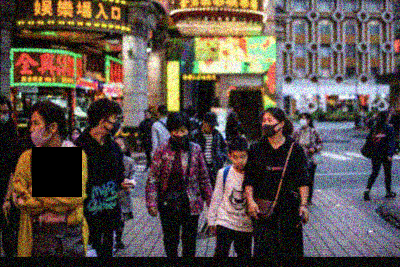mask_weared_incorrect: (29, 116, 50, 146)
with_mask: (170, 123, 189, 145), (261, 114, 281, 134), (103, 114, 121, 135), (1, 105, 10, 122), (298, 114, 309, 127)
without_mask: (231, 151, 249, 167), (205, 121, 215, 132)
